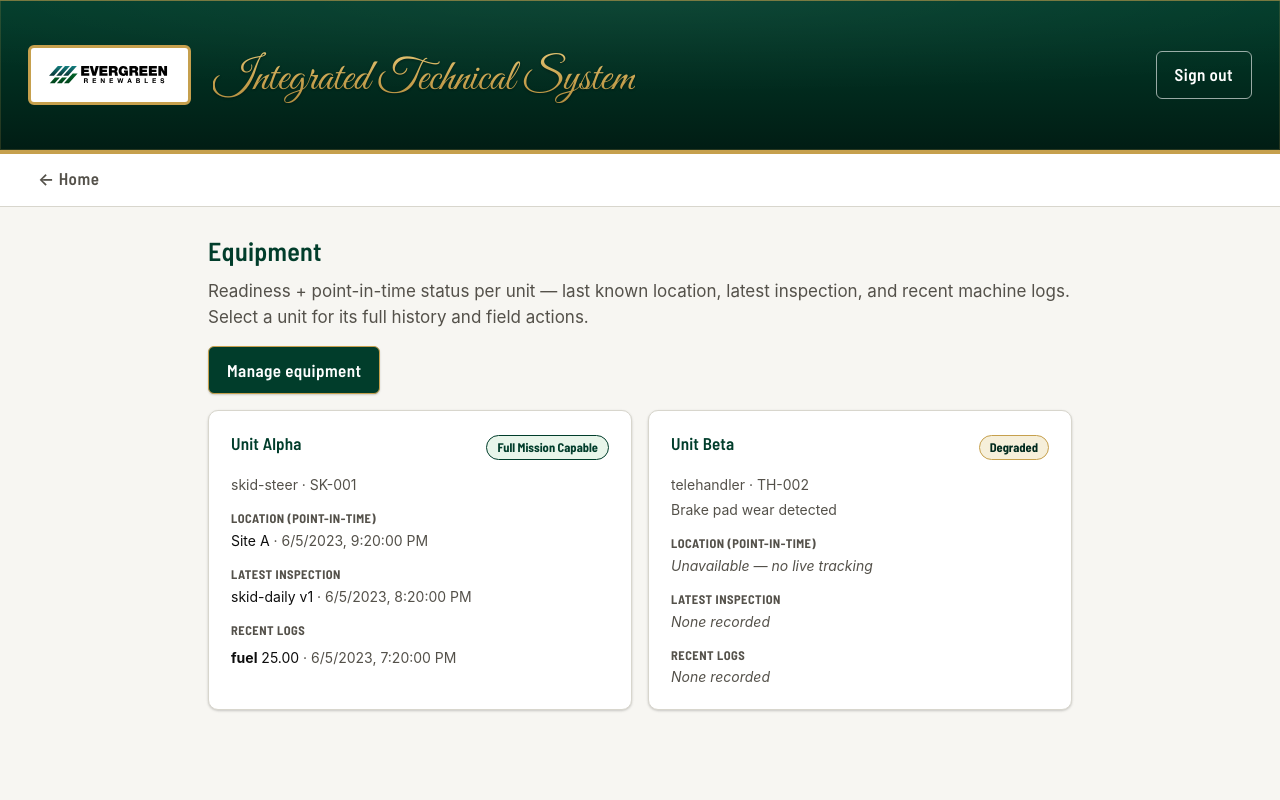
Test case: FieldOpsEquipment — Manage screen (roster CRUD, cap.equipment.manage) › Manage screen: back button returns to the dashboard
Click the button "Manage equipment" at (294, 370), box [208, 346, 380, 394]
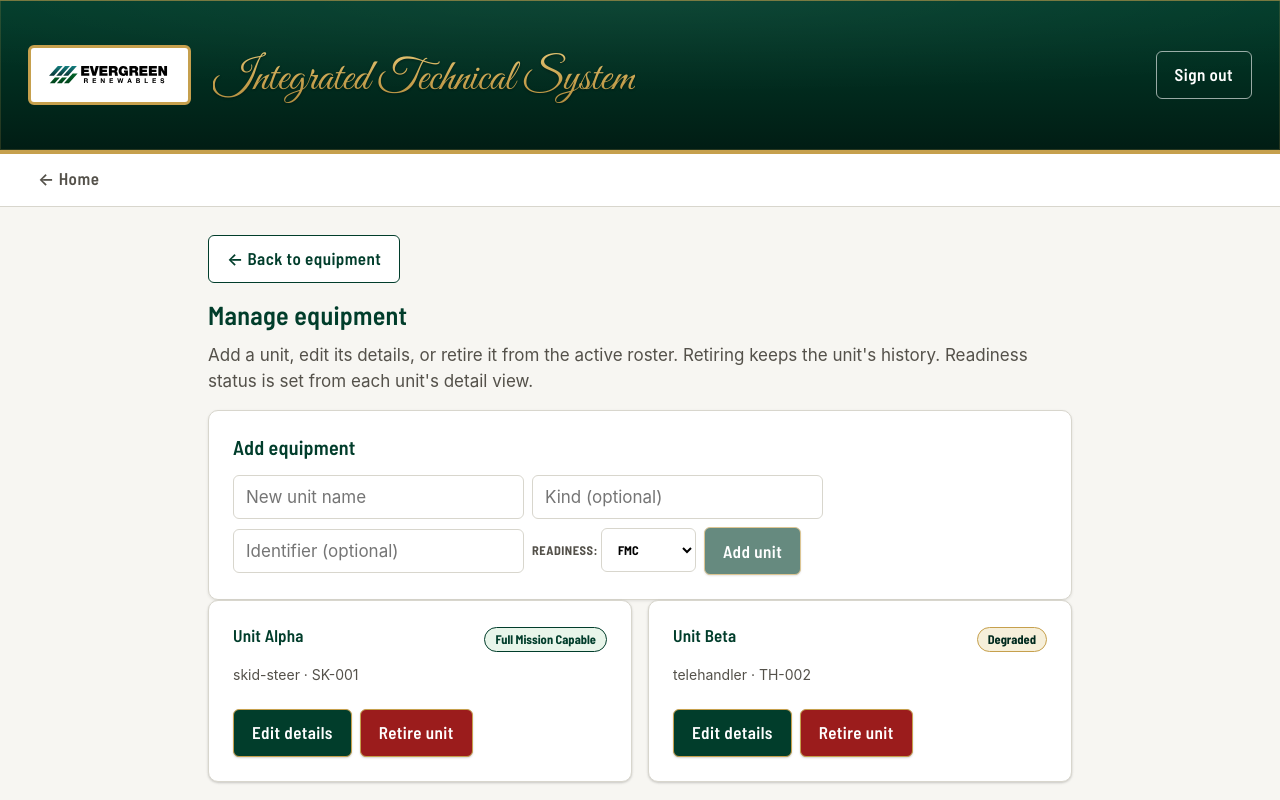
Result: the form named "Add equipment" is shown at [233, 475, 823, 575]
Click the button "← Back to equipment" at (304, 259), box [208, 235, 400, 283]
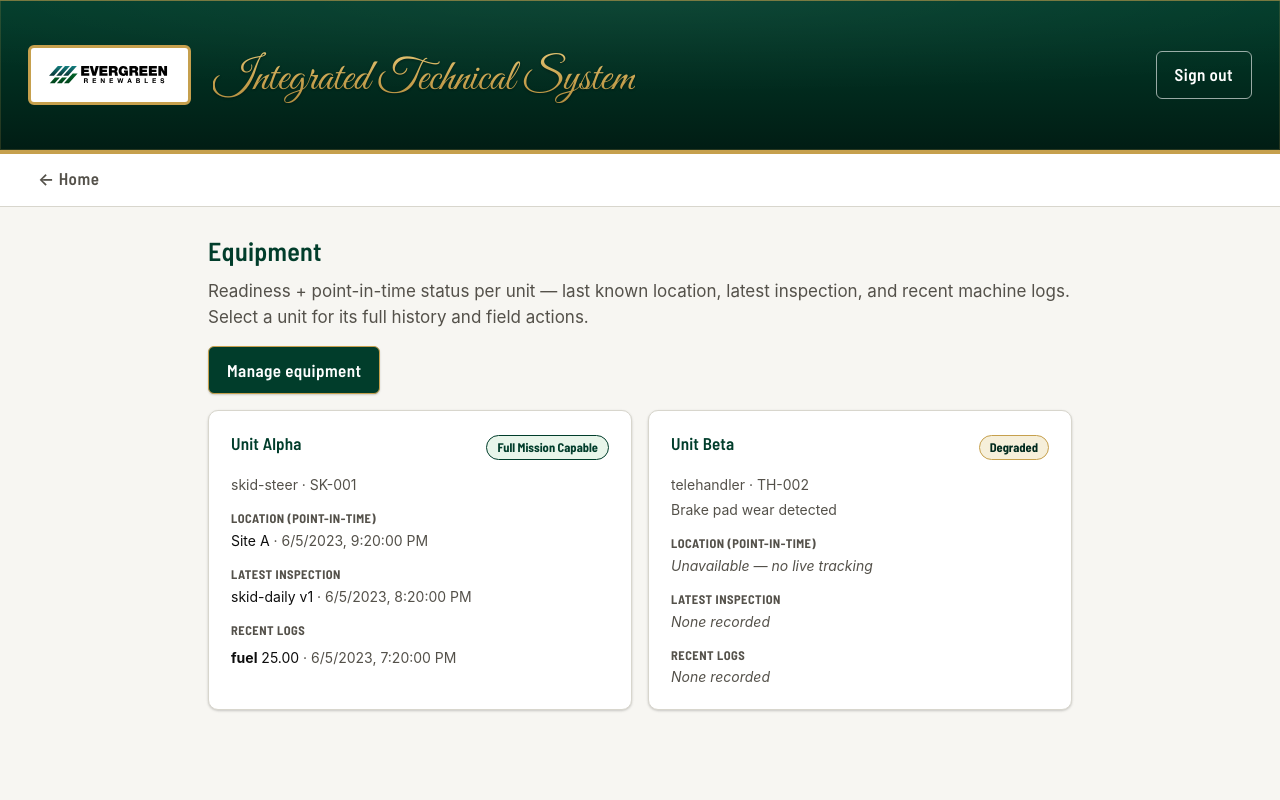
Result: the number of buttons with class "dash-card--click" is 2 at [208, 410, 632, 710]; [648, 410, 1072, 710]
